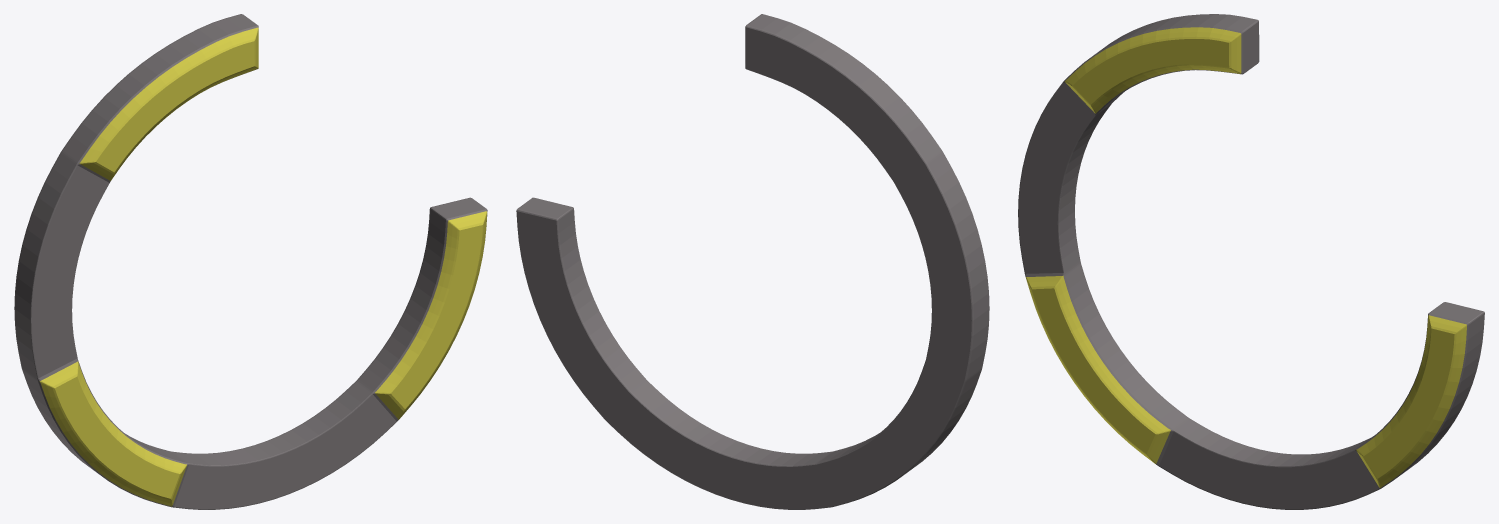
File: GoalBarrier_75.fbx
3 renders of one model, left to right at view 1: azimuth 30°, elevation 25°; view 2: azimuth 150°, elevation 25°; view 3: azimuth 330°, elevation 25°, orthographic.
Visible parts, largest first — view 1: GoalBarrier.75; view 2: GoalBarrier.75; view 3: GoalBarrier.75.
Part boxes in pixels (box(x1,y1,x2,y2)): GoalBarrier.75: box(14, 14, 487, 509); GoalBarrier.75: box(516, 14, 989, 509); GoalBarrier.75: box(1018, 14, 1484, 509).
Size of the model in its own units: 483 by 483 by 39.73.
